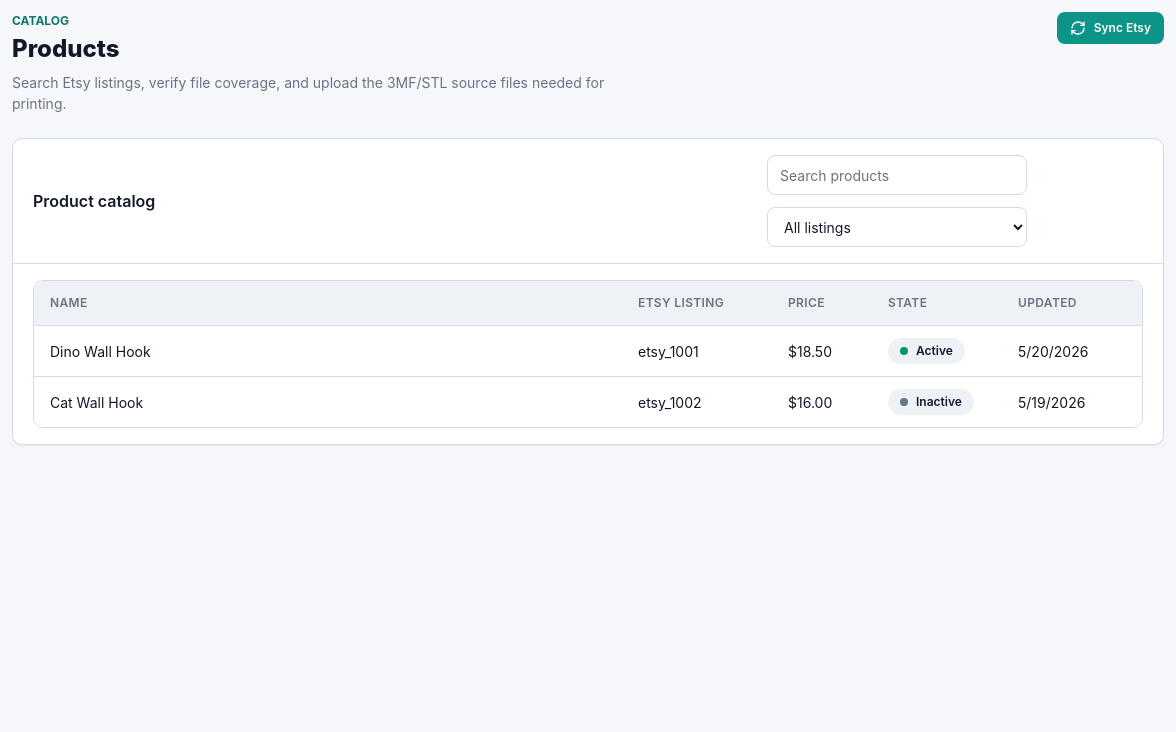
workspace pages › filters products by search term and active state
Expected: the link "Dino Wall Hook" is shown, [50, 342, 151, 360]
Type "cat" into the field labelled "Search products". click: (897, 175)
box: [767, 155, 1027, 195]
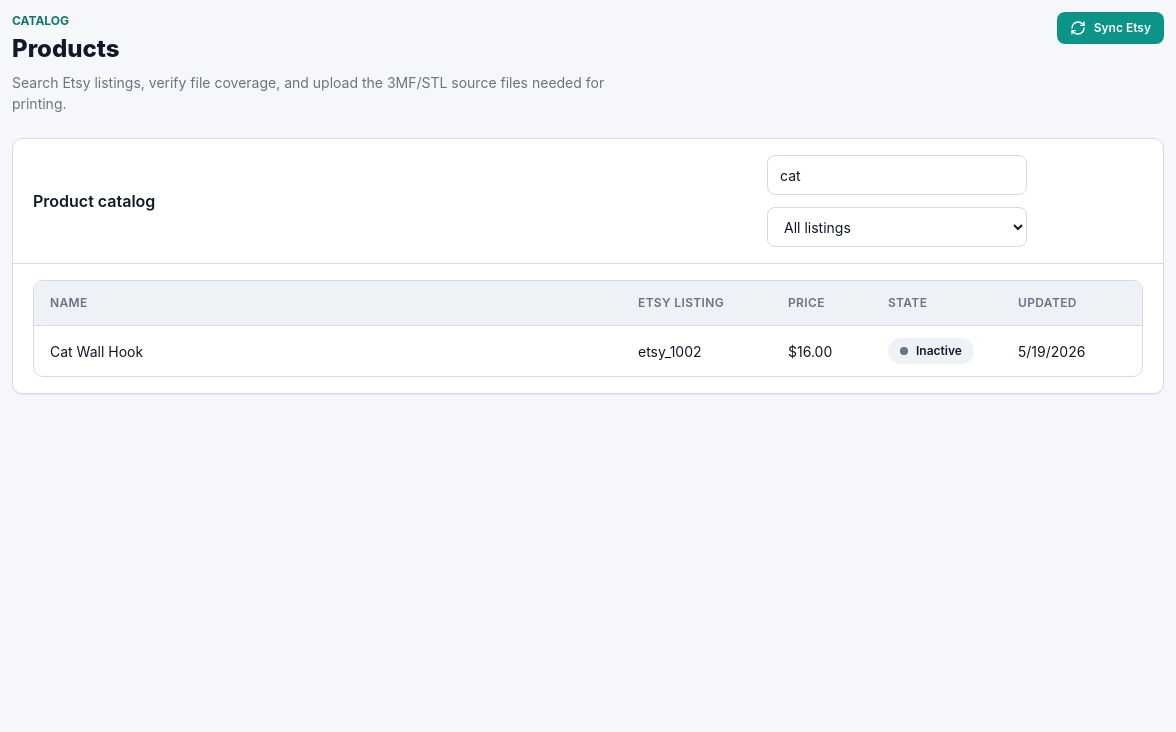
Expected: the link "Cat Wall Hook" is shown, [50, 342, 143, 360]
Expected: the link "Dino Wall Hook" is gone
Select "Active only" in the dropdown named "Filter products by status". click: (897, 227)
box: [767, 207, 1027, 247]
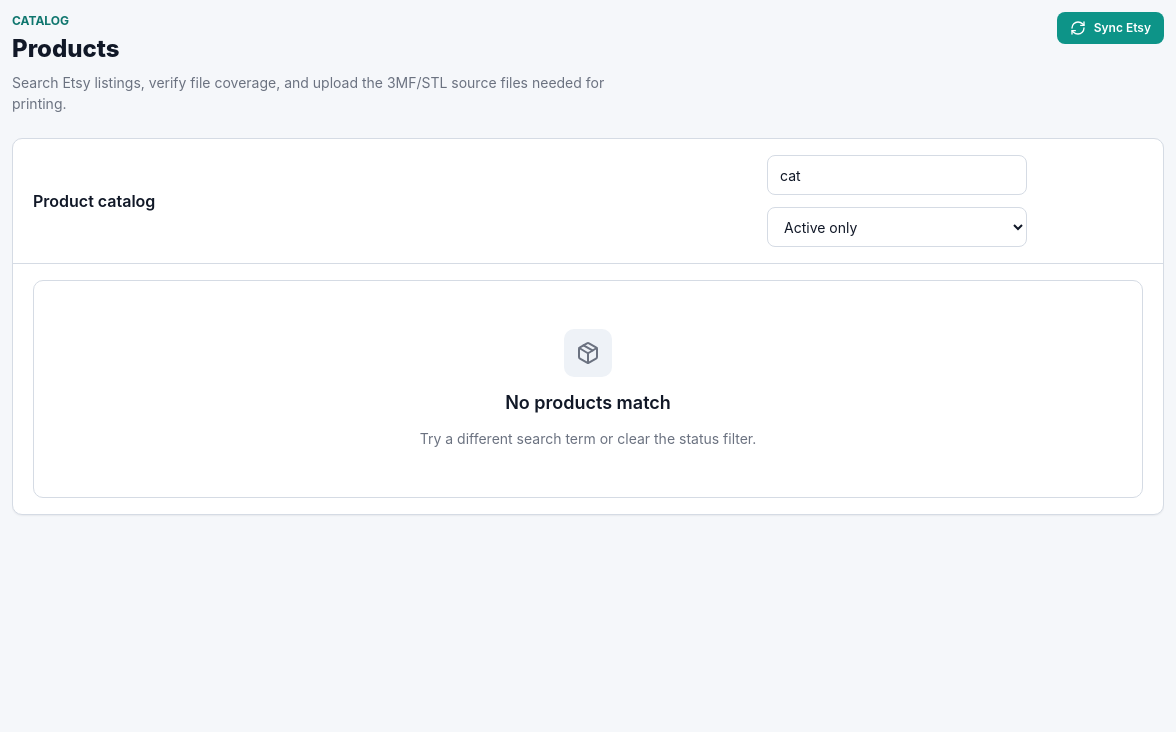
Expected: the heading "No products match" is shown, [505, 389, 671, 416]
